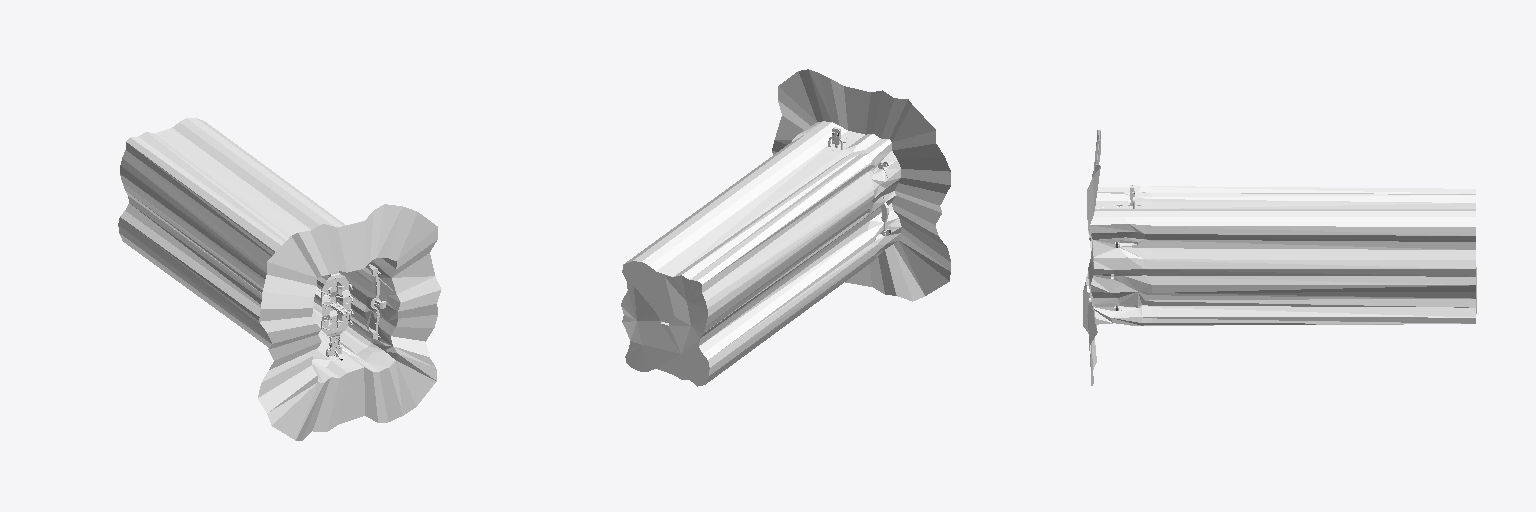
The picture shows the model from 3 angles: view 1: azimuth 30°, elevation 25°; view 2: azimuth 150°, elevation 25°; view 3: azimuth 270°, elevation 25°; orthographic projection.
Parts seen in each view (by area): view 1: gephyrophobia; view 2: gephyrophobia; view 3: gephyrophobia.
Part boxes in pixels (left/top/right/bottom): gephyrophobia: left=118, top=118, right=441, bottom=440; gephyrophobia: left=621, top=69, right=950, bottom=386; gephyrophobia: left=1083, top=130, right=1476, bottom=385.
Bounding box in the file's own units: 22302 × 25336 × 41925.
25 materials, 10 textured.